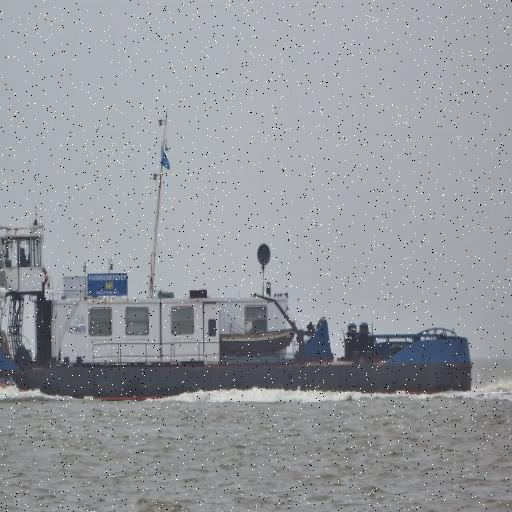tugboat: (1, 215, 478, 412)
